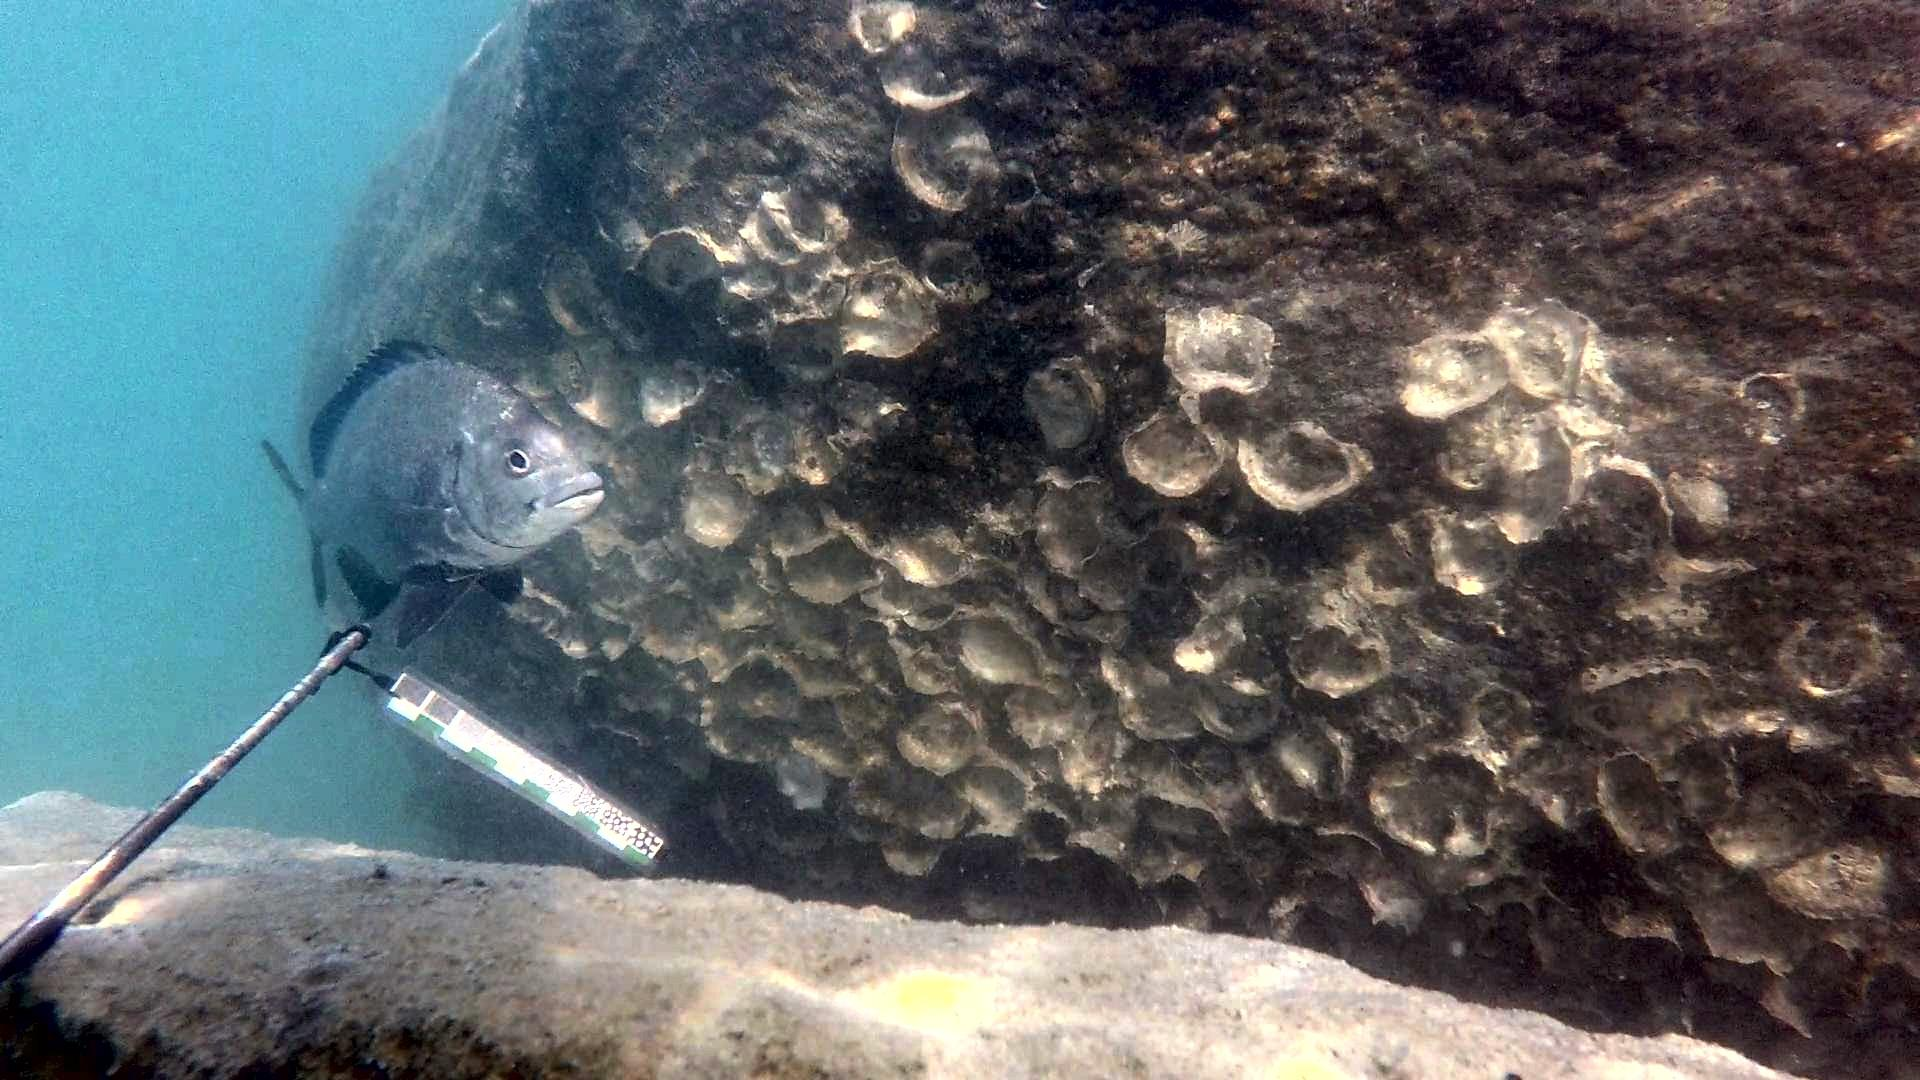acanthopagrus palmaris: (255, 331, 613, 653)
